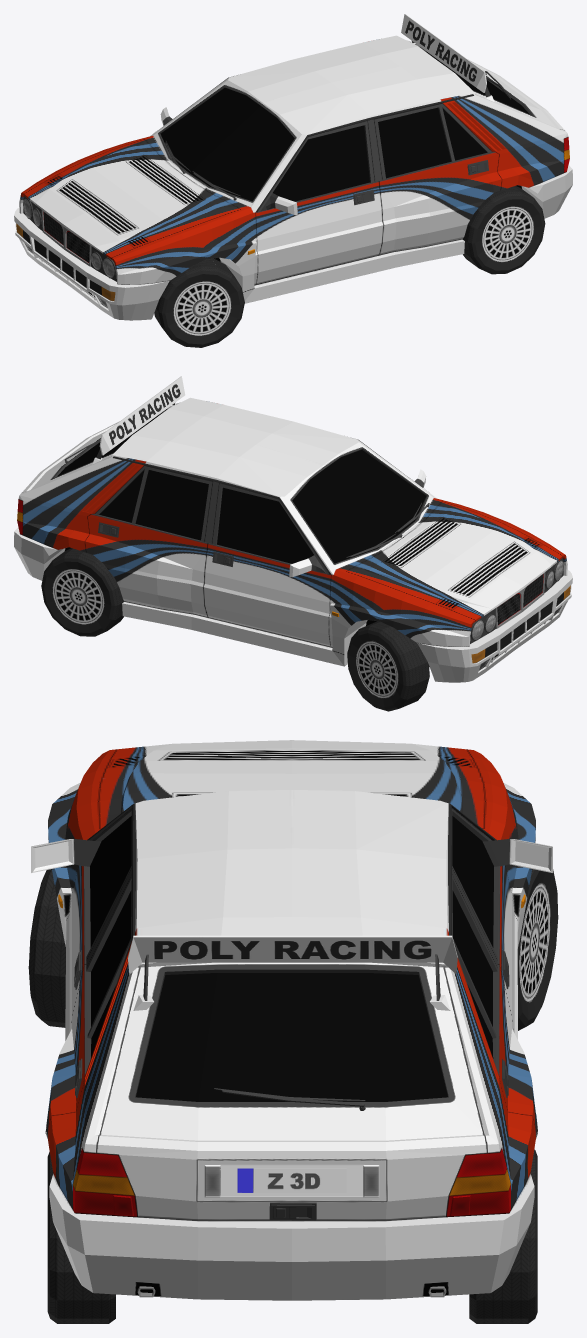
Rendered from lancia.glb.
3 renders of one model, top to bottom at view 1: azimuth 30°, elevation 25°; view 2: azimuth 150°, elevation 25°; view 3: azimuth 270°, elevation 25°, orthographic. The views are drawn at different scales.
Visible parts, largest first — view 1: Body.025, Front wheel.006, Rear Wheel.001, Spoiler wing.003, Mirror.006; view 2: Body.025, Front wheel.001, Rear Wheel.006, Spoiler wing.003, Mirror.001; view 3: Body.025, Spoiler wing.003, Front wheel.001, Front wheel.006, Rear Wheel.006, Mirror.006, Mirror.001, Rear Wheel.001, Plate, Handle.001, Cylinder.002.
Part boxes in pixels (x1=…): Body.025: x1=14, y1=35, x2=572, y2=320; Front wheel.006: x1=154, y1=258, x2=244, y2=347; Rear Wheel.001: x1=462, y1=186, x2=545, y2=274; Spoiler wing.003: x1=401, y1=14, x2=486, y2=92; Mirror.006: x1=247, y1=86, x2=494, y2=254; Body.025: x1=14, y1=397, x2=572, y2=682; Front wheel.001: x1=347, y1=621, x2=429, y2=711; Rear Wheel.006: x1=41, y1=548, x2=124, y2=636; Spoiler wing.003: x1=99, y1=376, x2=185, y2=455; Mirror.001: x1=92, y1=449, x2=339, y2=616; Body.025: x1=45, y1=740, x2=537, y2=1300; Spoiler wing.003: x1=128, y1=935, x2=457, y2=974; Front wheel.001: x1=517, y1=869, x2=558, y2=1030; Front wheel.006: x1=28, y1=869, x2=65, y2=1027; Rear Wheel.006: x1=469, y1=1149, x2=537, y2=1323; Mirror.006: x1=31, y1=804, x2=220, y2=1297; Mirror.001: x1=363, y1=804, x2=552, y2=1297; Rear Wheel.001: x1=47, y1=1152, x2=115, y2=1323; Plate: x1=237, y1=1168, x2=346, y2=1192; Handle.001: x1=269, y1=1202, x2=316, y2=1220; Cylinder.002: x1=214, y1=1088, x2=365, y2=1110.
Size of the model in its own units: 4.02 by 1.54 by 1.96.
1 material, 1 textured.
